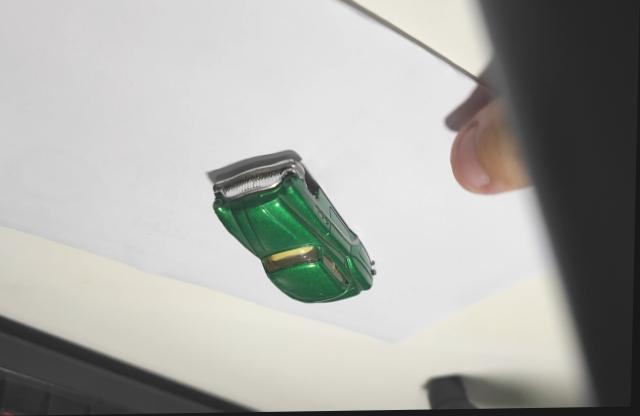06_MASERATI: (208, 153, 378, 304)
